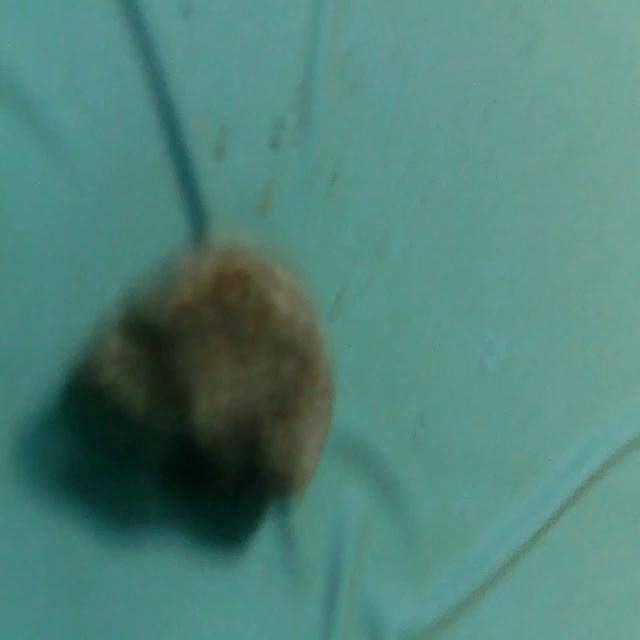rock: (54, 248, 340, 513)
